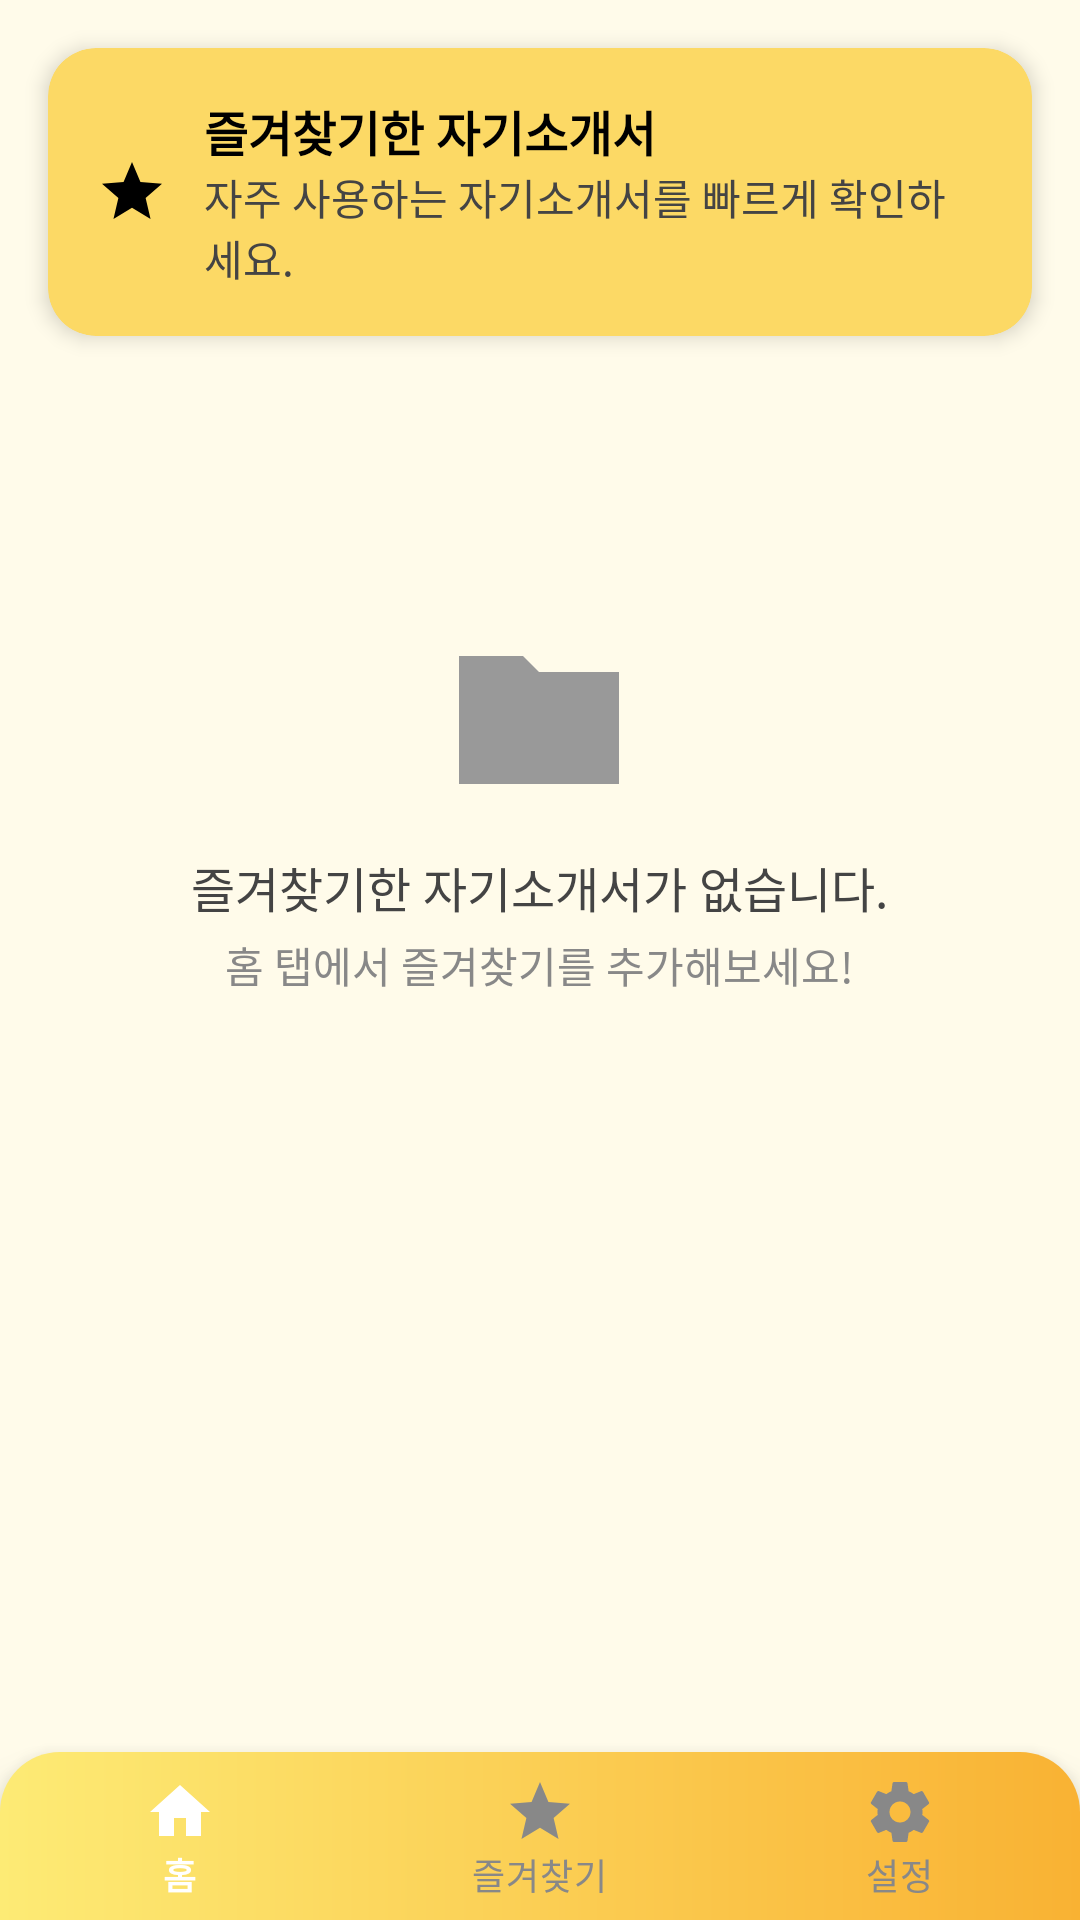

Screen size 1080×1920. Icon name, then its center in pixels as (x=x, y=y):
star: (x=132, y=190)
